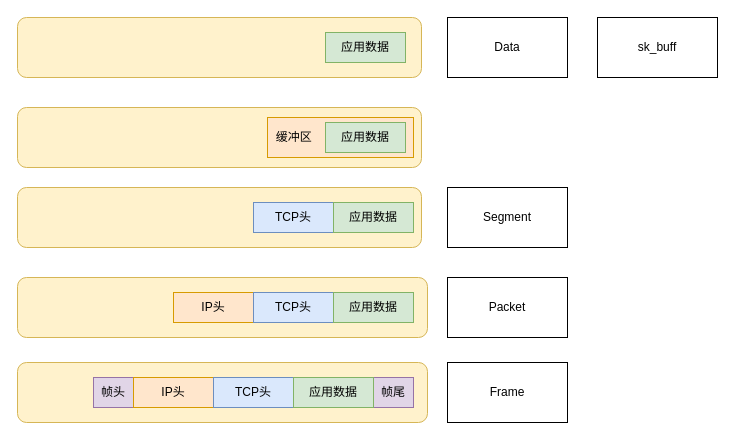
This 735x440 diagram has some shape labels left out. The box of each missing label's shape, as (x1, y1, x2, y2) in pixels:
Socket层: (16, 106, 422, 168)
传输层: (16, 186, 422, 248)
应用层: (16, 16, 422, 78)
网络层: (16, 276, 428, 338)
网络接口层: (16, 362, 428, 422)
